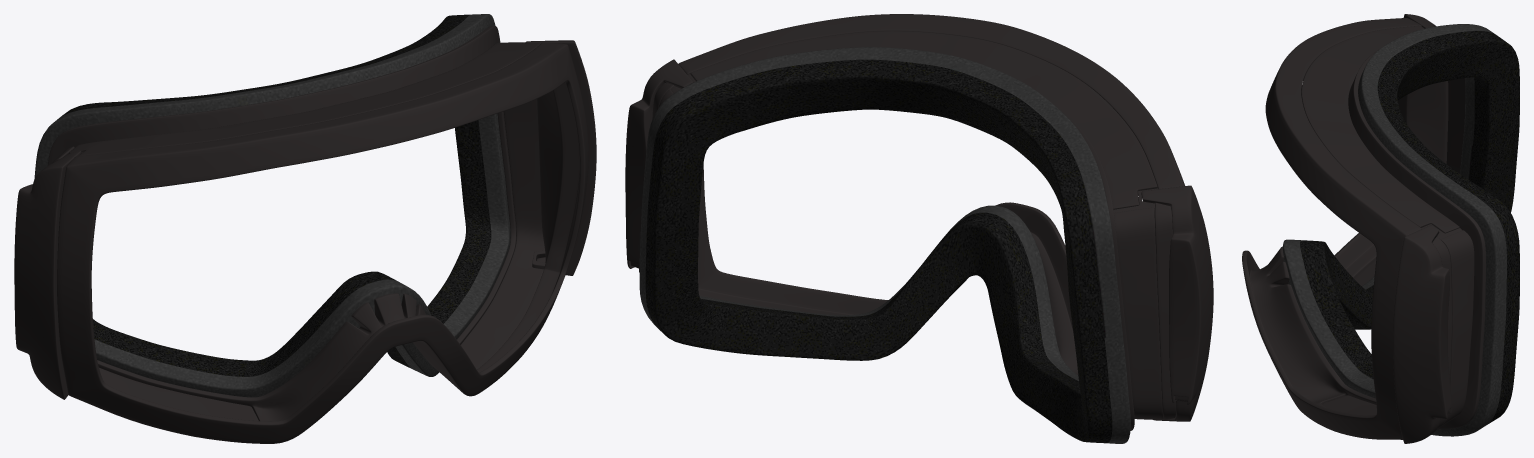
The model's file is FRAME_Styx_MOST019_001.glb.
The picture shows the model from 3 angles, left to right: view 1: azimuth 30°, elevation 25°; view 2: azimuth 150°, elevation 25°; view 3: azimuth 270°, elevation 25°; orthographic projection. The views are drawn at different scales.
Parts seen in each view (by area): view 1: Full_rim_geometry, Frame-Add_Frame-01_geometry_Add_Frame_geometry; view 2: Frame-Add_Frame-01_geometry_Add_Frame_geometry, Full_rim_geometry; view 3: Frame-Add_Frame-01_geometry_Add_Frame_geometry, Full_rim_geometry.
Part boxes in pixels (x1,y1,x2,y2): Full_rim_geometry: (14,26,596,443); Frame-Add_Frame-01_geometry_Add_Frame_geometry: (34,14,544,420); Frame-Add_Frame-01_geometry_Add_Frame_geometry: (639,31,1163,443); Full_rim_geometry: (625,14,1213,430); Frame-Add_Frame-01_geometry_Add_Frame_geometry: (1283,24,1519,436); Full_rim_geometry: (1242,14,1485,443).
Bounding box in the file's own units: 0.1754 × 0.0942 × 0.0831.
Materials: 1 (1 with a texture image).
